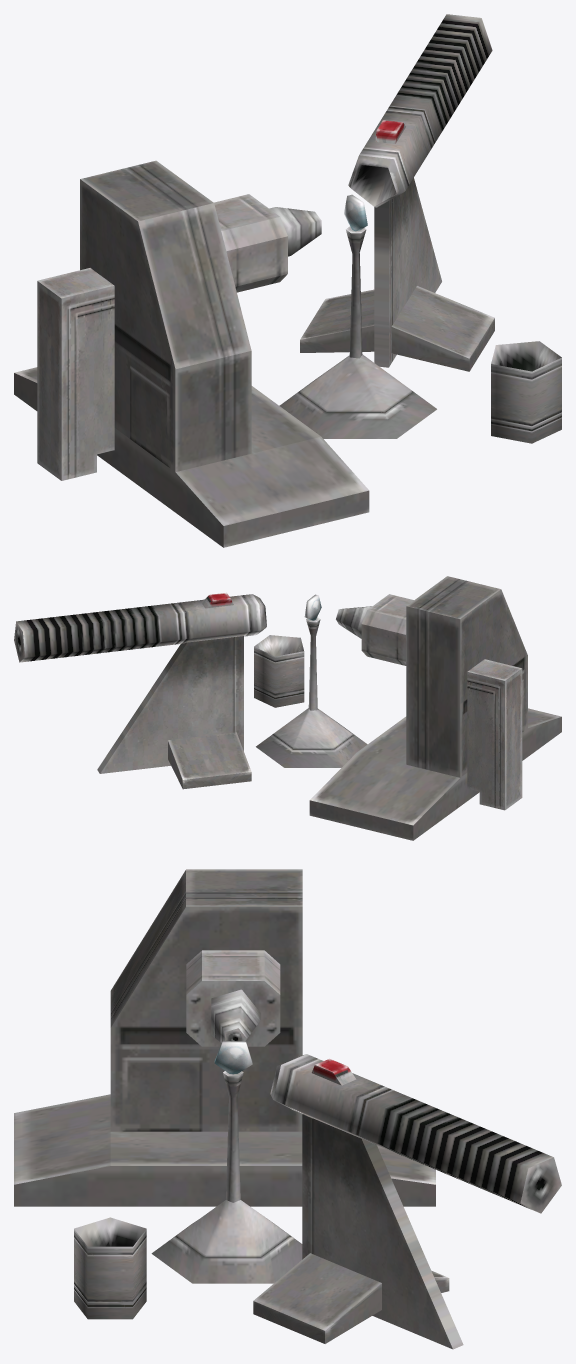
File: eqp_tool_lightsaber_crafting_kit.fbx
The picture shows the model from 3 angles, top to bottom: view 1: azimuth 30°, elevation 25°; view 2: azimuth 150°, elevation 25°; view 3: azimuth 270°, elevation 25°; orthographic projection. The views are drawn at different scales.
Visible parts, largest first — view 1: mesh_node; view 2: mesh_node; view 3: mesh_node.
Boxes of the visible parts, x1,y1,x2,y2 form: mesh_node: (14, 14, 561, 547); mesh_node: (14, 576, 561, 840); mesh_node: (14, 869, 561, 1349).
Size of the model in its own units: 0.6162 by 0.2709 by 0.5064.
2 materials, 2 textured.
